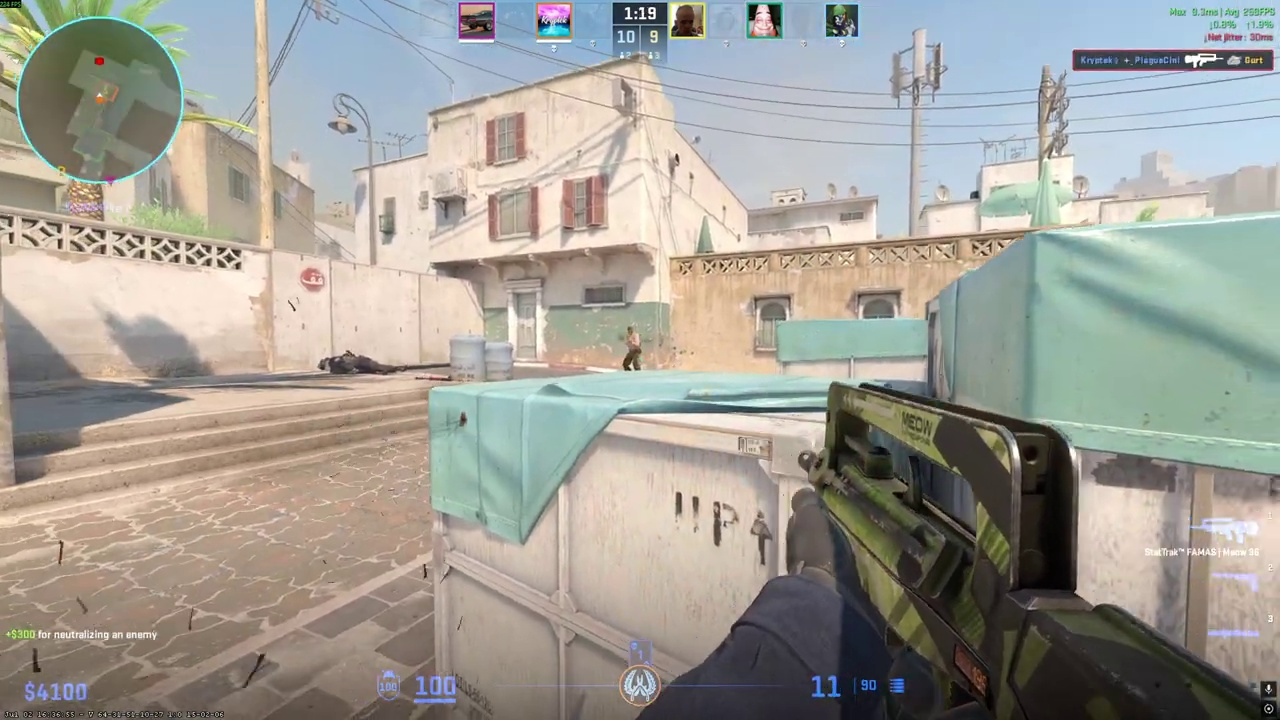Terrorist: (622, 326, 641, 371)
